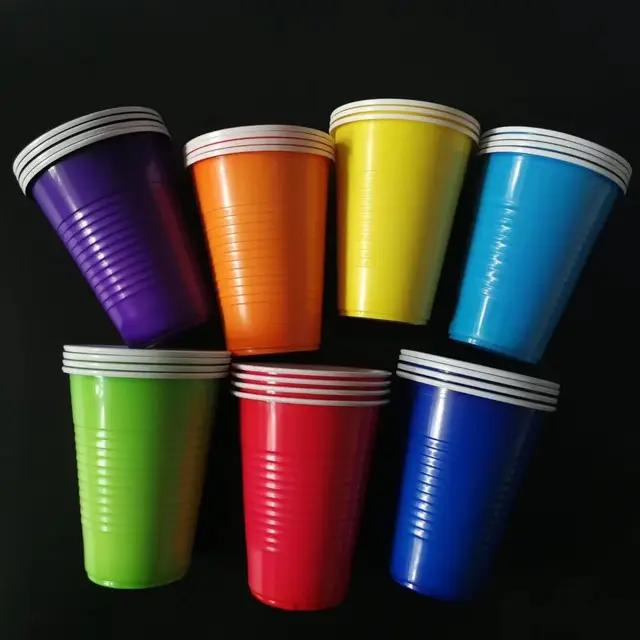Single-Use-Plastic: (12, 106, 209, 346), (450, 126, 631, 362), (390, 350, 559, 601), (62, 345, 230, 589), (232, 362, 391, 609), (185, 126, 334, 355), (330, 99, 480, 323)
